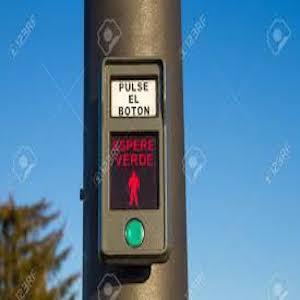red: (111, 133, 161, 209)
